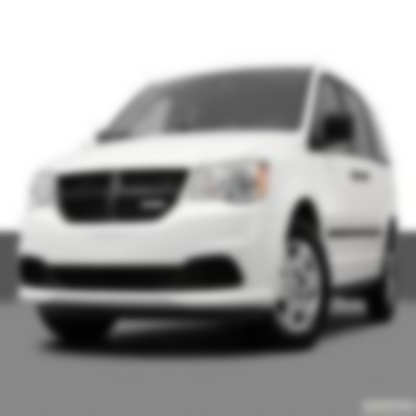Vehicle: (14, 64, 402, 356)
